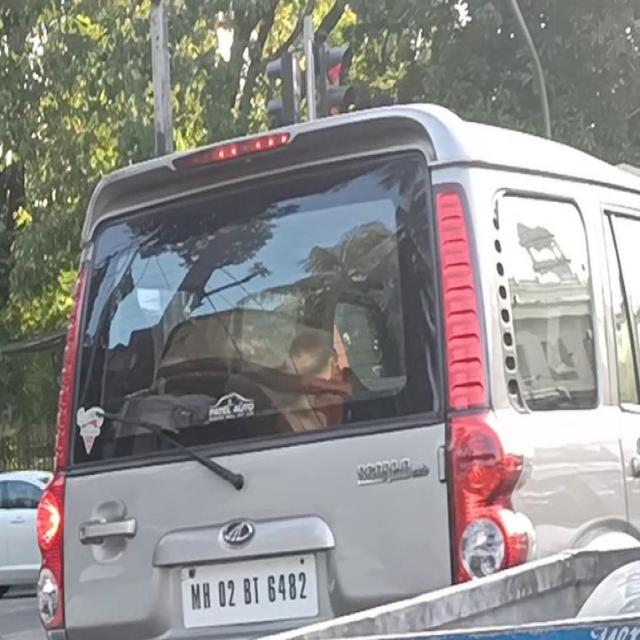Plate: (181, 552, 319, 628)
